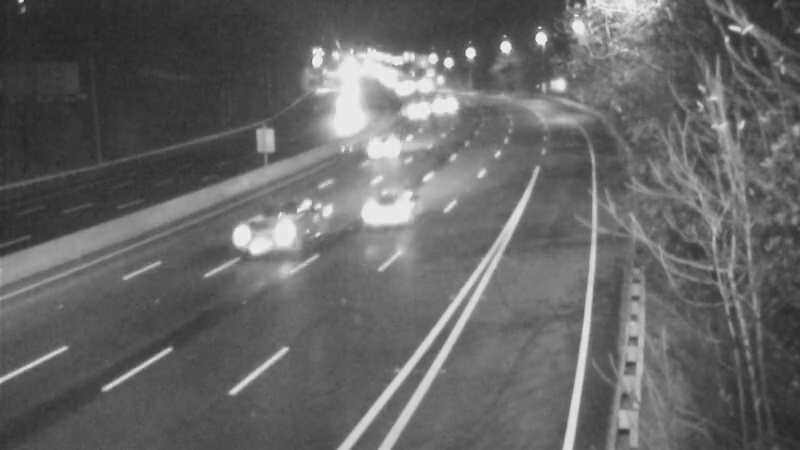vehicle: (350, 168, 430, 248), (231, 187, 311, 267), (400, 60, 450, 110), (375, 62, 425, 112), (419, 78, 469, 128), (388, 85, 438, 135), (361, 123, 411, 173), (320, 77, 370, 127)
